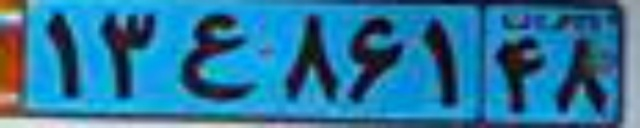1: (423, 17, 458, 106), (45, 13, 82, 97)
3: (99, 12, 152, 97)
4: (497, 36, 546, 113)
6: (347, 17, 403, 101)
8: (282, 12, 336, 102), (554, 37, 609, 115)
ain: (174, 13, 257, 99)
